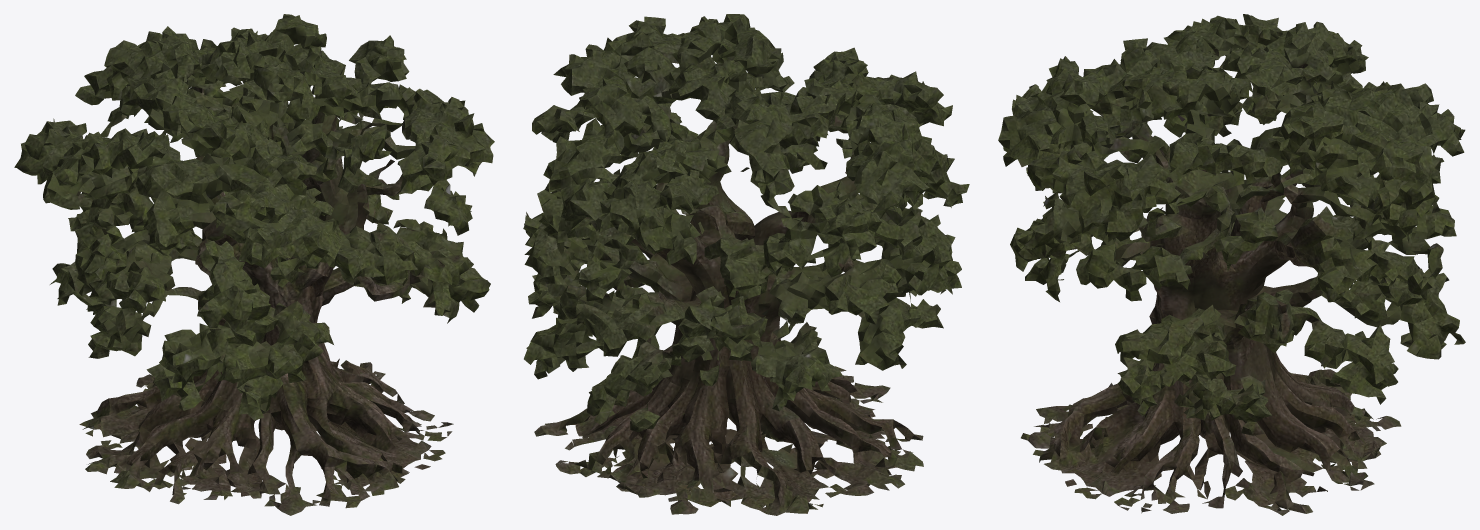
The picture shows the model from 3 angles, left to right: view 1: azimuth 30°, elevation 25°; view 2: azimuth 150°, elevation 25°; view 3: azimuth 270°, elevation 25°; orthographic projection. The views are drawn at different scales.
Size of the model in its own units: 1.86 by 1.76 by 1.87.
Materials: 1 (1 with a texture image).
